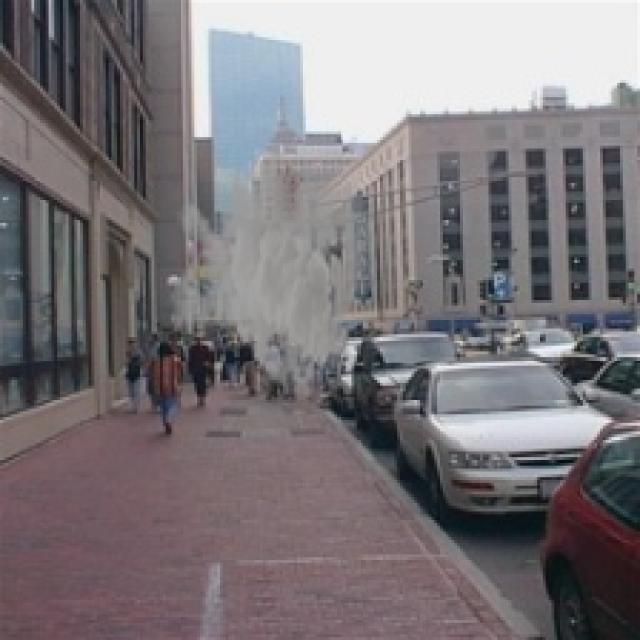smoke: (169, 131, 380, 400)
